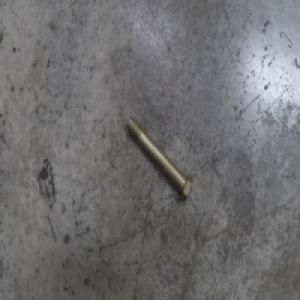Bolt: (126, 114, 194, 202)
